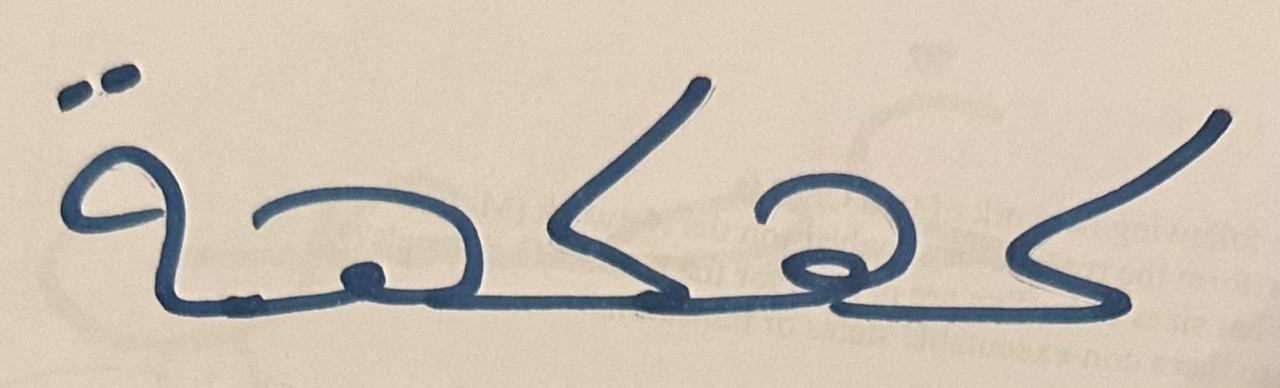jeem: (215, 82, 501, 368), (735, 84, 945, 361)
khah: (948, 25, 1266, 365), (505, 13, 730, 352)
thal: (30, 13, 211, 358)
